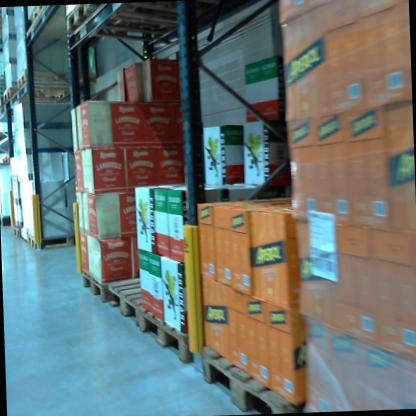pallet: (66, 0, 225, 53), (201, 344, 304, 416), (105, 272, 175, 343), (133, 302, 199, 373), (102, 0, 227, 26), (14, 64, 85, 94), (74, 265, 114, 312), (3, 82, 84, 103), (26, 229, 80, 255), (28, 5, 72, 25), (8, 226, 21, 243)
